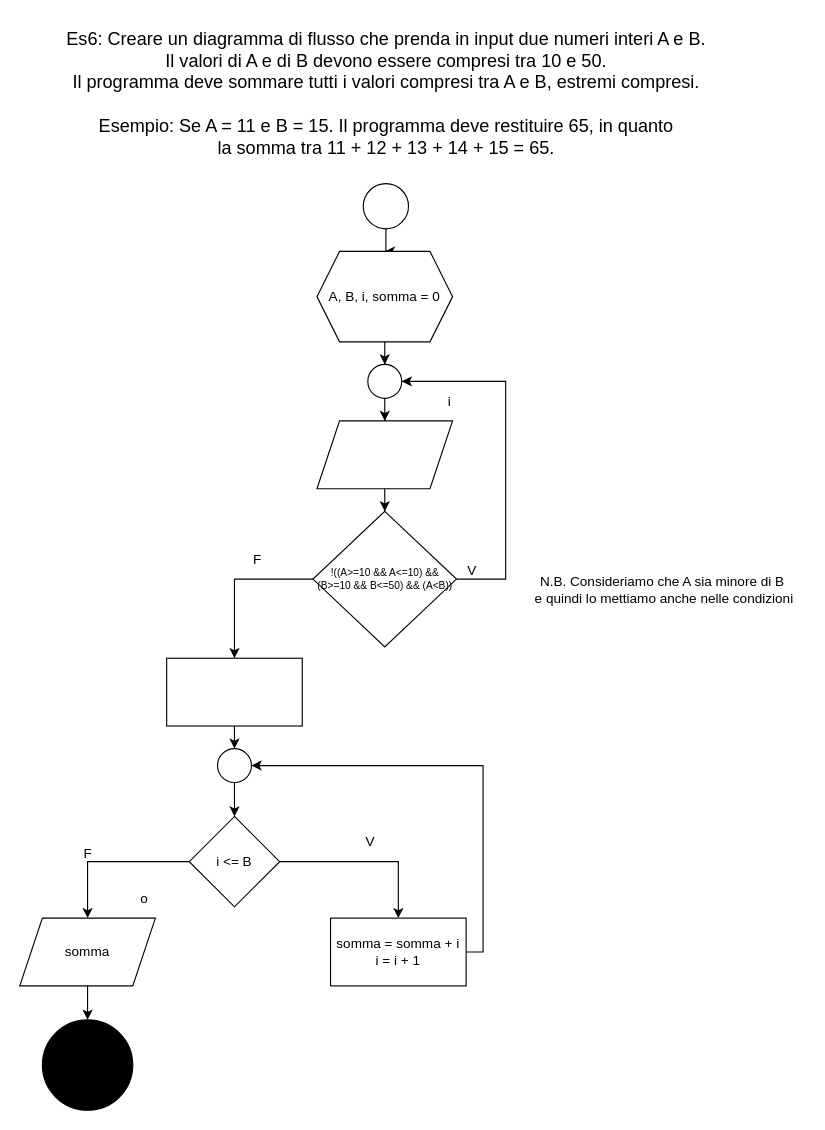
This 825x1130 diagram has some shape labels left out. The box of each missing label's shape, as (x1, y1, x2, y2) in pixels:
A, B: (316, 420, 453, 489)
i = A: (166, 657, 302, 726)
